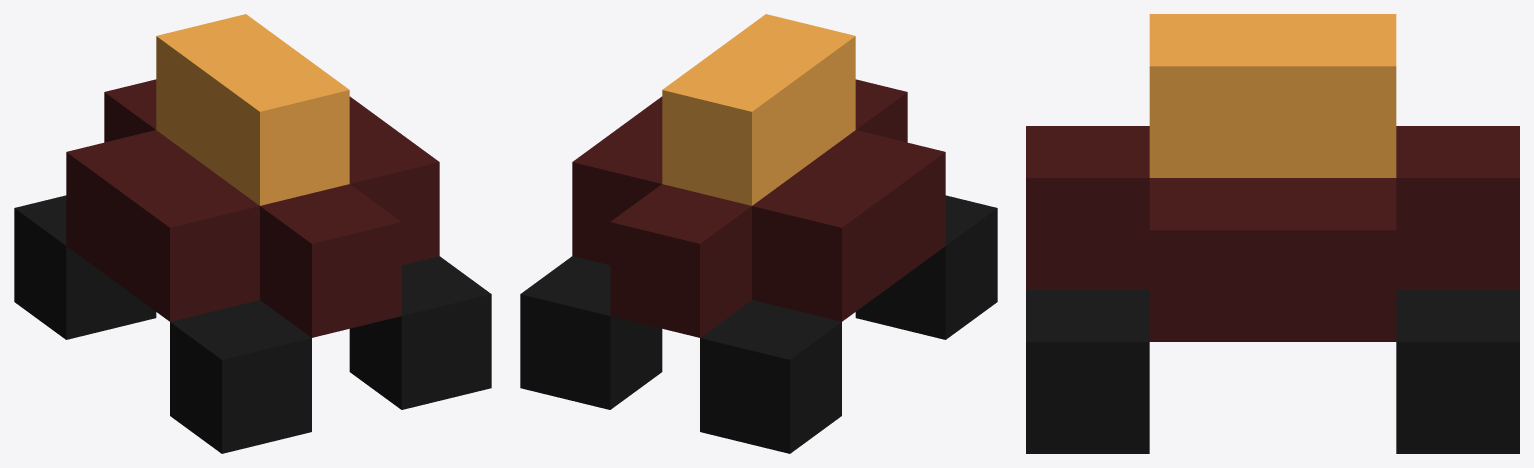
Rendered from KidsRoom-9.obj.
3 views of the same model, side by side, from view 1: azimuth 30°, elevation 25°; view 2: azimuth 150°, elevation 25°; view 3: azimuth 270°, elevation 25° (orthographic). The views are drawn at different scales.
Bounding box in the file's own units: 0.3 × 0.3 × 0.4.
1 material, 1 textured.
